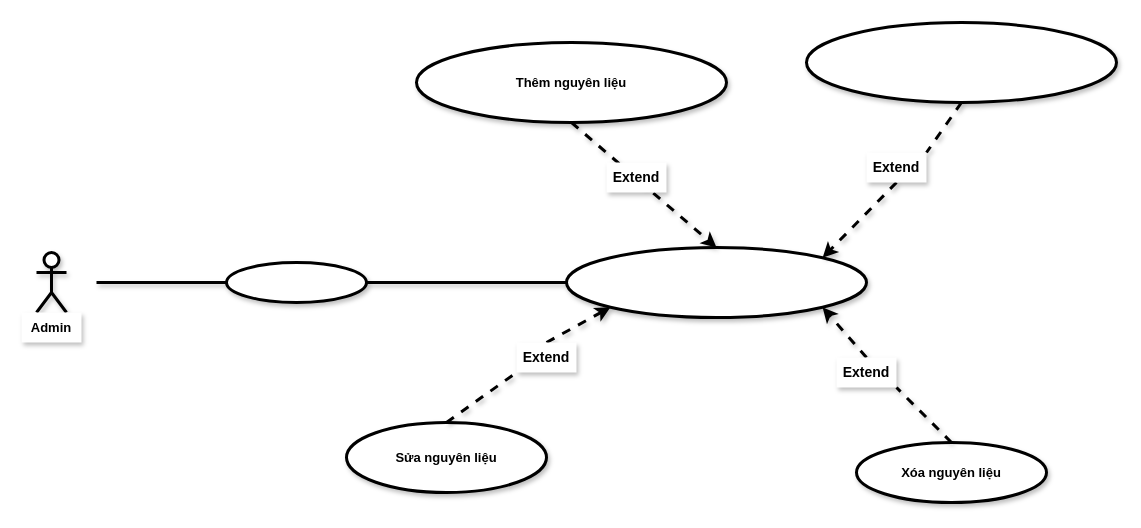
Some shapes in this 1141 by 528 pixel diagram are drawn without their labels. Each missing label, with the centre of its shape:
"Quản lý nguyên liệu" goes at pixel 717 284.
"Xem nguyên liệu" goes at pixel 962 63.
"Đăng nhập" goes at pixel 297 283.
